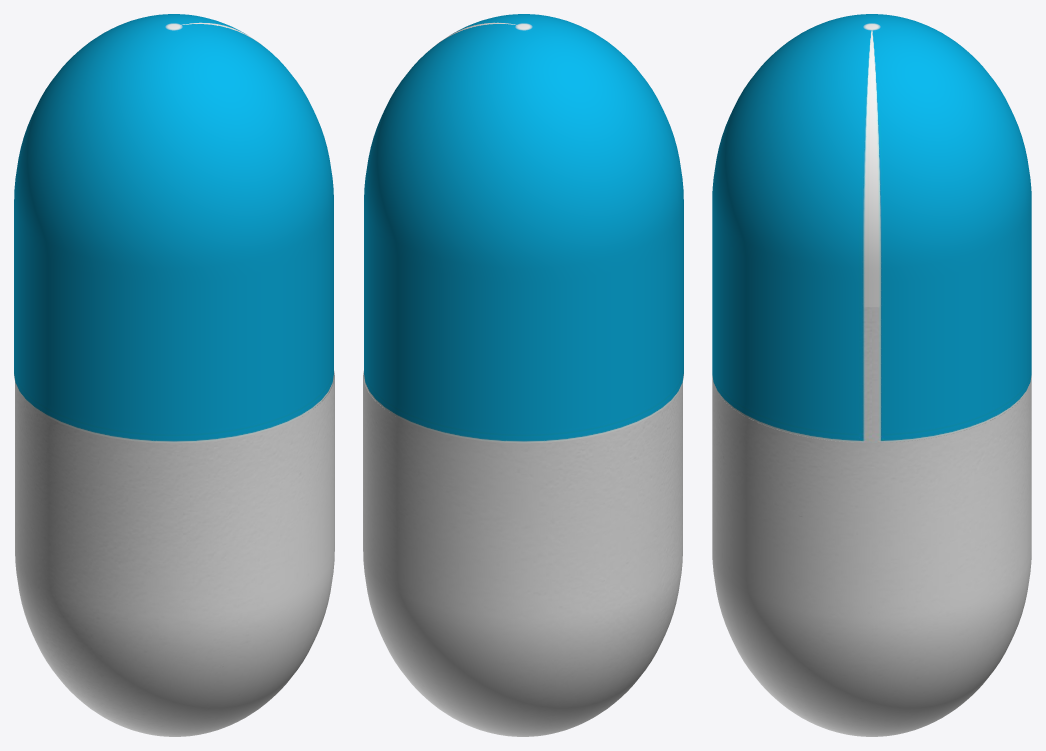
The model's file is pildora.obj.
3 renders of one model, left to right at view 1: azimuth 30°, elevation 25°; view 2: azimuth 150°, elevation 25°; view 3: azimuth 270°, elevation 25°, orthographic.
Parts seen in each view (by area): view 1: pildora_pill_Mesh; view 2: pildora_pill_Mesh; view 3: pildora_pill_Mesh.
Boxes of the visible parts, <box> form: pildora_pill_Mesh: <box>14,14,334,736</box>; pildora_pill_Mesh: <box>363,14,683,736</box>; pildora_pill_Mesh: <box>712,14,1031,736</box>.
Bounding box in the file's own units: 1.22 × 2.92 × 1.21.
Materials: 1 (1 with a texture image).
